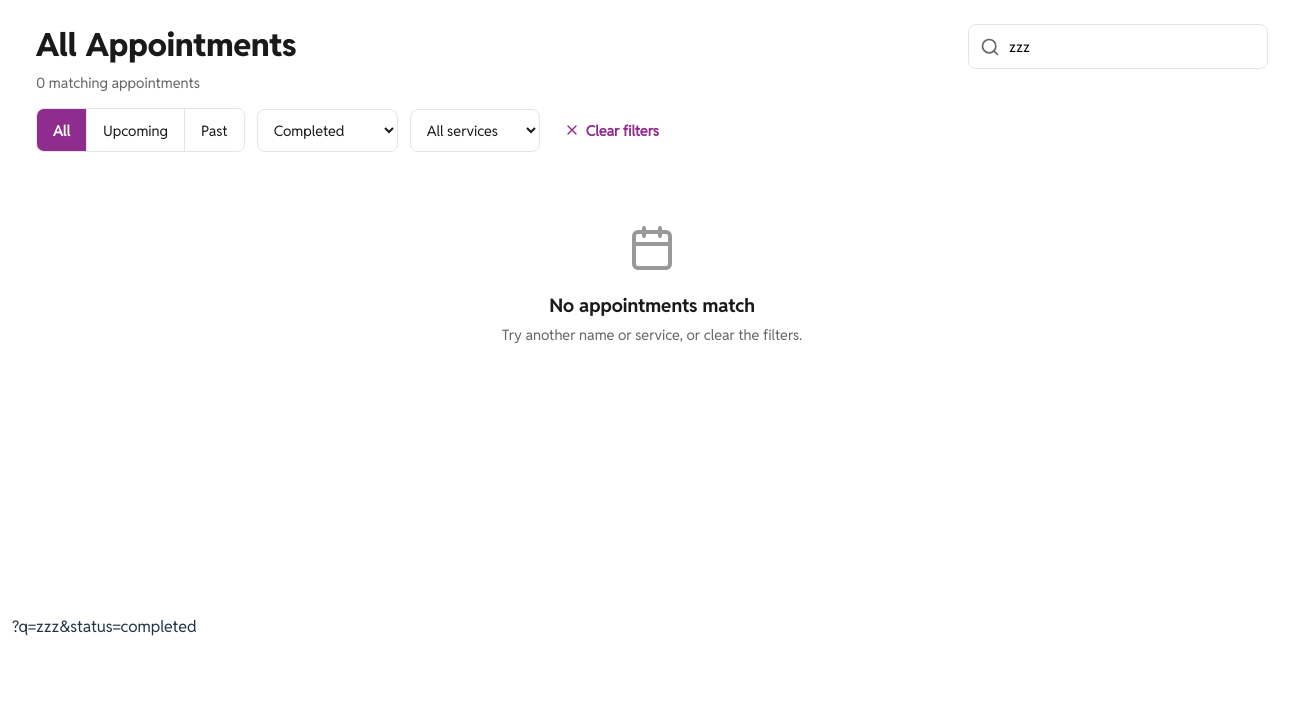
Test: Appointments page › says when nothing matches and clears the filters
Expected: the heading "No appointments match" is shown, [549, 293, 755, 317]
Expected: the text "0 matching appointments" is shown, [36, 73, 200, 92]
Step 1. Click the button "Clear filters" → (611,130), box [552, 110, 671, 150]
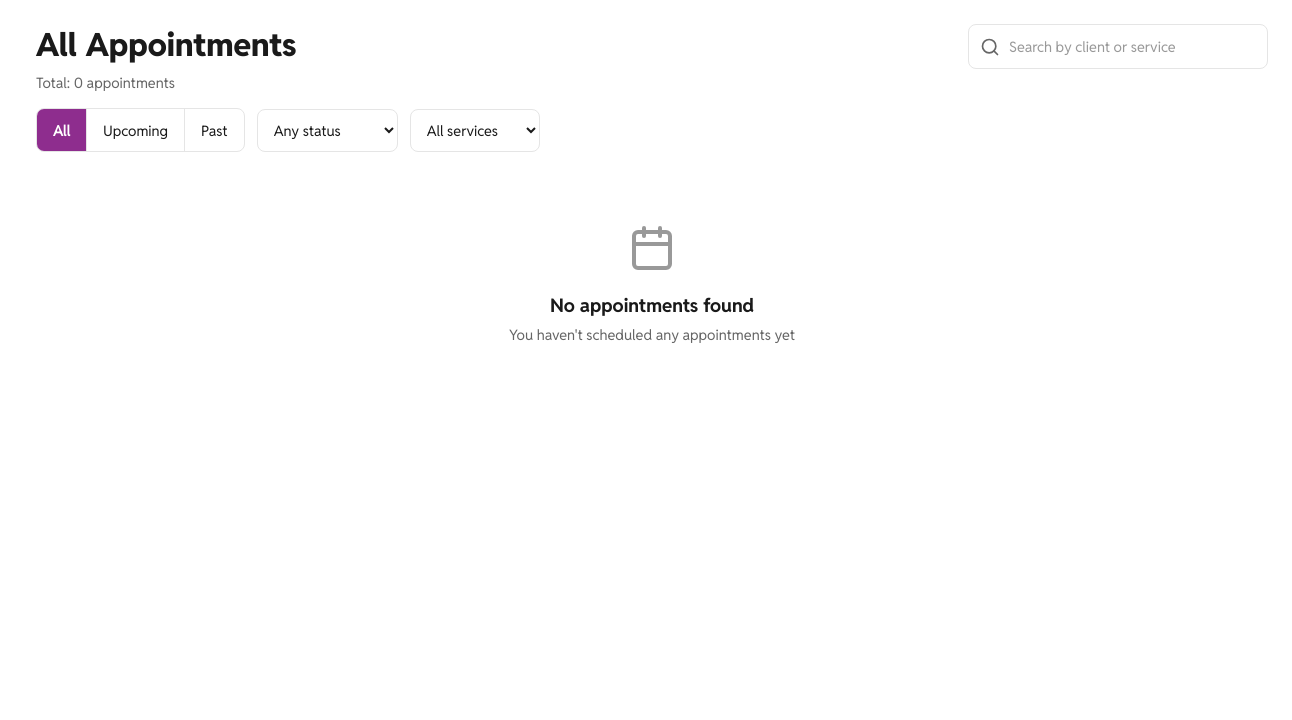
Result: the search field is empty at [968, 24, 1268, 69]
